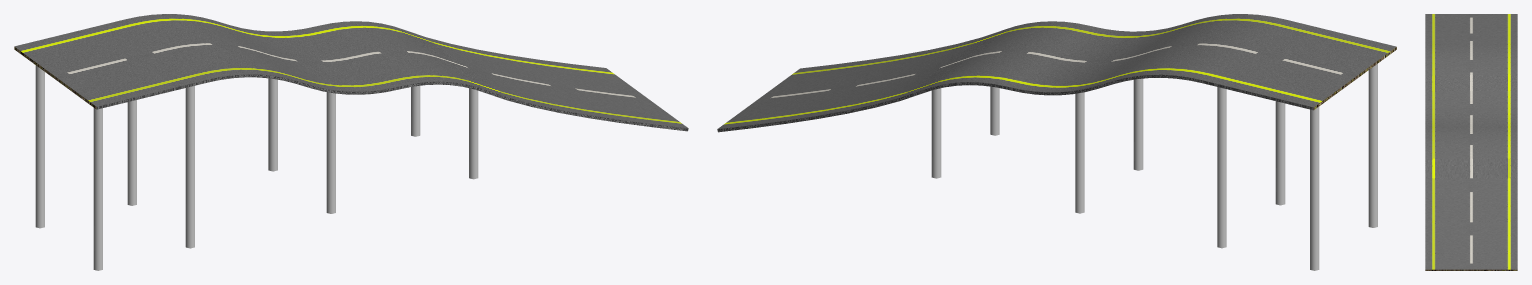
File: Hudels_001.FBX
3 renders of one model, left to right at view 1: azimuth 30°, elevation 25°; view 2: azimuth 150°, elevation 25°; view 3: azimuth 270°, elevation 25°, orthographic. The views are drawn at different scales.
Parts seen in each view (by area): view 1: Line002, Cylinder004, Cylinder003; view 2: Line002, Cylinder003, Cylinder004; view 3: Line002.
Part boxes in pixels (x1,y1,x2,y2): Line002: (14,14,688,131); Cylinder004: (93,86,478,270); Cylinder003: (35,65,420,228); Line002: (717,14,1396,132); Cylinder003: (931,87,1319,270); Cylinder004: (990,63,1377,227); Line002: (1425,14,1517,270).
Size of the model in its own units: 209 by 58.45 by 50.5.
Materials: 2 (2 with a texture image).
